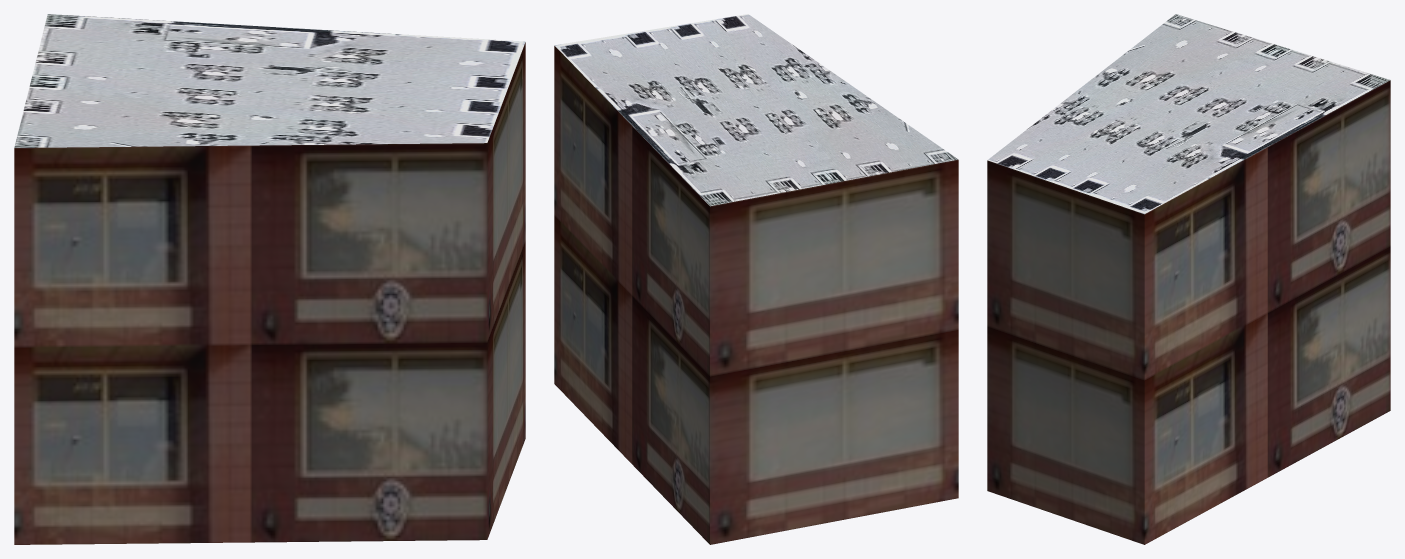
Rendered from ResTex__5074.fbx.
3 renders of one model, left to right at view 1: azimuth 30°, elevation 25°; view 2: azimuth 150°, elevation 25°; view 3: azimuth 270°, elevation 25°, orthographic. The views are drawn at different scales.
Visible parts, largest first — view 1: CityEngineMaterial_13_m, CityEngineMaterial_m; view 2: CityEngineMaterial_13_m, CityEngineMaterial_m; view 3: CityEngineMaterial_13_m, CityEngineMaterial_m.
Boxes of the visible parts, <box> form: CityEngineMaterial_13_m: <box>14,42,525,544</box>; CityEngineMaterial_m: <box>14,14,525,147</box>; CityEngineMaterial_13_m: <box>554,46,958,544</box>; CityEngineMaterial_m: <box>554,14,957,206</box>; CityEngineMaterial_13_m: <box>987,80,1390,544</box>; CityEngineMaterial_m: <box>987,14,1390,214</box>.
Size of the model in its own units: 7.79 by 6 by 6.64.
Materials: 2 (2 with a texture image).
